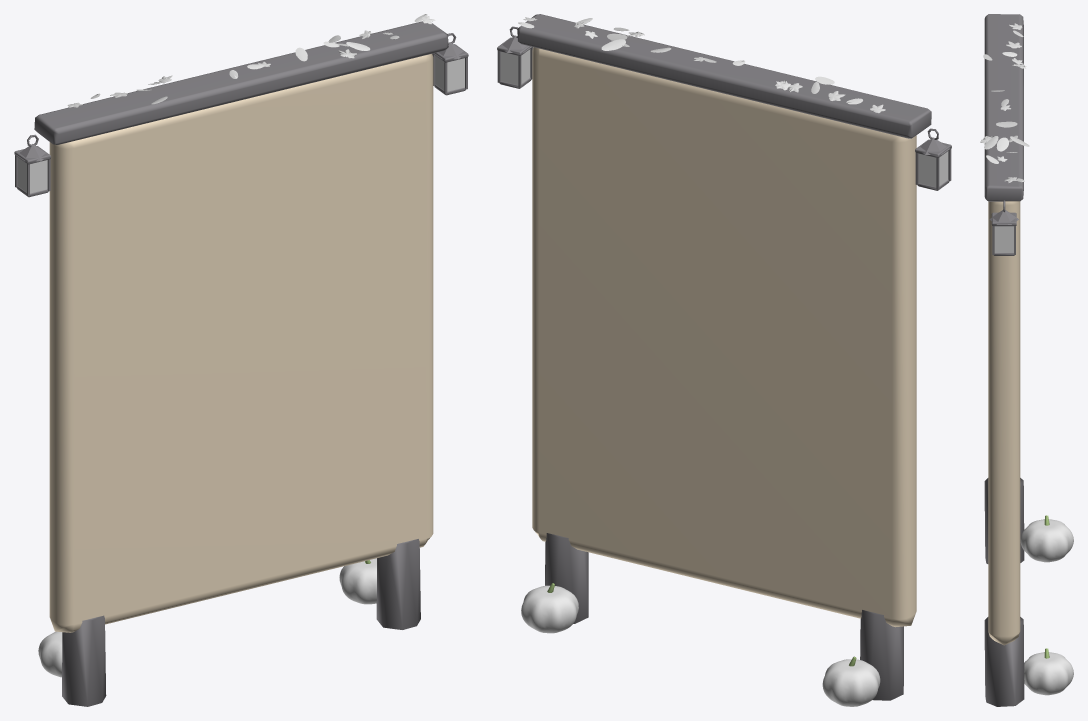
Rendered from HollowBoard.glb.
3 renders of one model, left to right at view 1: azimuth 30°, elevation 25°; view 2: azimuth 150°, elevation 25°; view 3: azimuth 270°, elevation 25°, orthographic. The views are drawn at different scales.
Parts seen in each view (by area): view 1: Wood, Iron, Leaf, Lglass, Leaf3; view 2: Wood, Iron, Leaf, Lglass, Leaf3; view 3: Wood, Iron, Leaf, Leaf3, Lglass, Leaf2.
Part boxes in pixels (x1=…): Wood: x1=49, y1=54, x2=433, y2=632; Iron: x1=14, y1=21, x2=468, y2=706; Leaf: x1=38, y1=35, x2=399, y2=677; Lglass: x1=18, y1=56, x2=464, y2=193; Leaf3: x1=67, y1=14, x2=435, y2=107; Wood: x1=532, y1=47, x2=916, y2=627; Iron: x1=497, y1=14, x2=951, y2=700; Leaf: x1=521, y1=18, x2=880, y2=706; Lglass: x1=500, y1=49, x2=948, y2=186; Leaf3: x1=518, y1=17, x2=885, y2=113; Wood: x1=988, y1=201, x2=1020, y2=645; Iron: x1=984, y1=14, x2=1024, y2=706; Leaf: x1=986, y1=30, x2=1073, y2=695; Leaf3: x1=983, y1=23, x2=1026, y2=182; Lglass: x1=994, y1=226, x2=1013, y2=252; Leaf2: x1=990, y1=63, x2=1029, y2=146.
Bounding box in the file's own units: 12.93 × 16.61 × 2.63.
